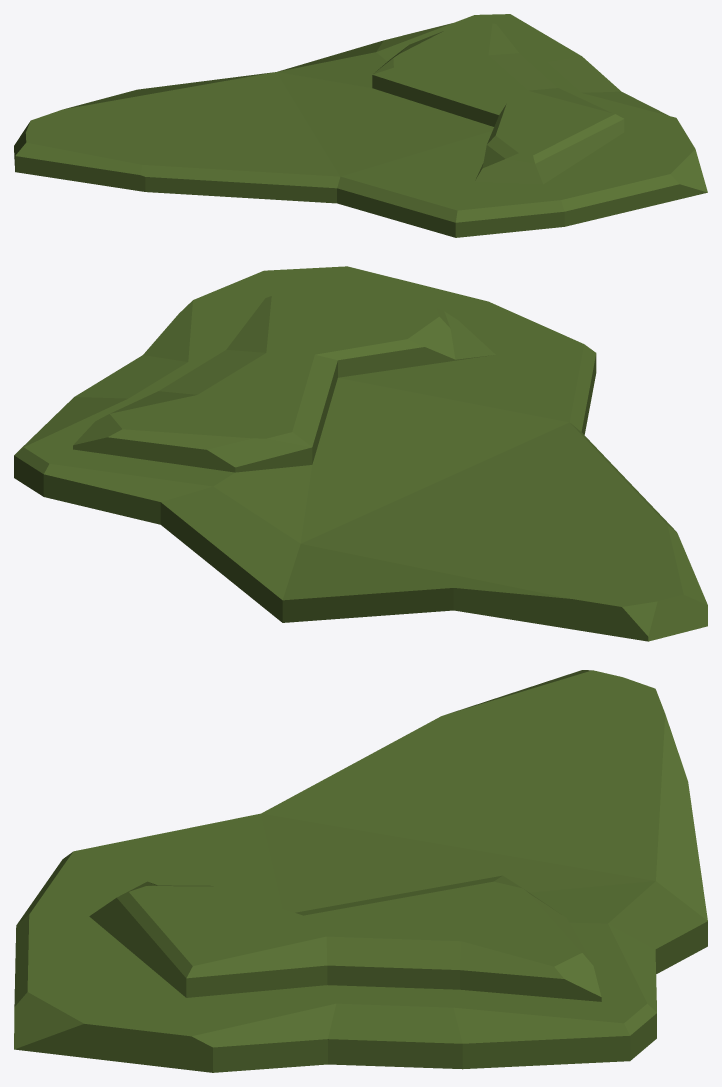
Rendered from LightVegetationDecorationSmallFloorOvergrowth1.fbx.
The picture shows the model from 3 angles, top to bottom: view 1: azimuth 30°, elevation 25°; view 2: azimuth 150°, elevation 25°; view 3: azimuth 270°, elevation 25°; orthographic projection. The views are drawn at different scales.
Visible parts, largest first — view 1: LightVegetationDecorationSmallFloorOvergrowth1; view 2: LightVegetationDecorationSmallFloorOvergrowth1; view 3: LightVegetationDecorationSmallFloorOvergrowth1.
Boxes of the visible parts, box(x1,y1,x2,y2) form: LightVegetationDecorationSmallFloorOvergrowth1: box(14, 14, 707, 237); LightVegetationDecorationSmallFloorOvergrowth1: box(14, 266, 707, 641); LightVegetationDecorationSmallFloorOvergrowth1: box(14, 670, 707, 1072).
Size of the model in its own units: 247 by 33.94 by 191.
